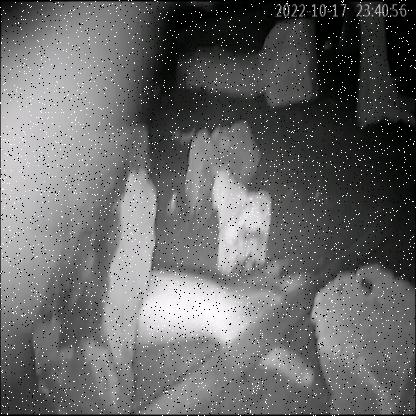hand: (127, 220, 333, 401)
